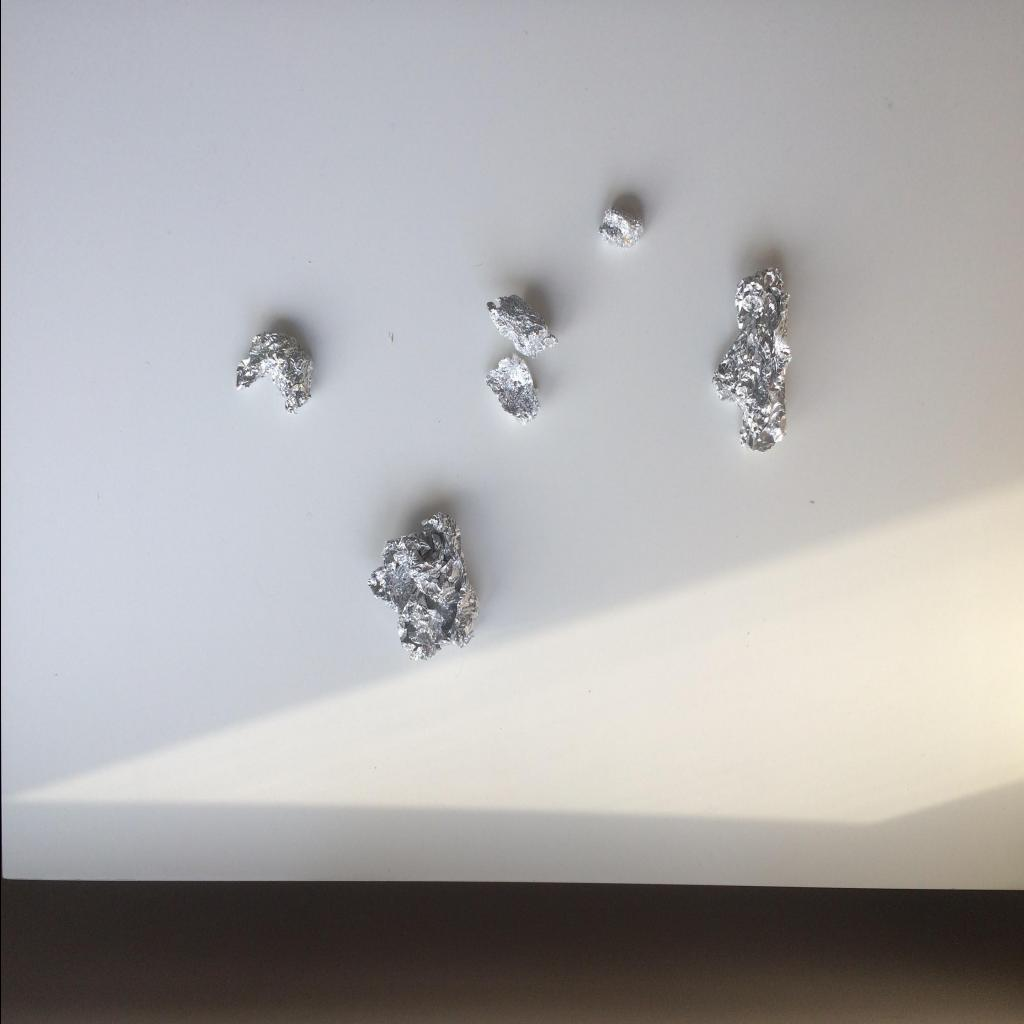Aluminium foil: (366, 511, 480, 661), (712, 265, 792, 453), (236, 332, 312, 414), (486, 294, 558, 360), (484, 352, 540, 426), (598, 206, 644, 250)
